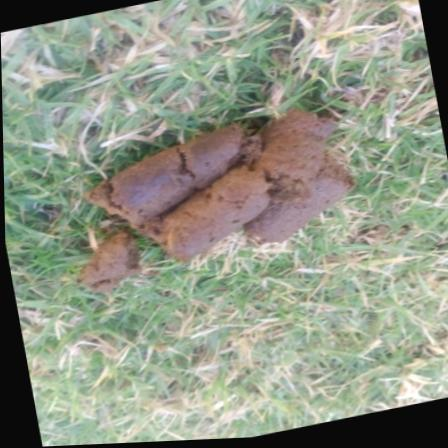dog-poop: (52, 95, 386, 314)
